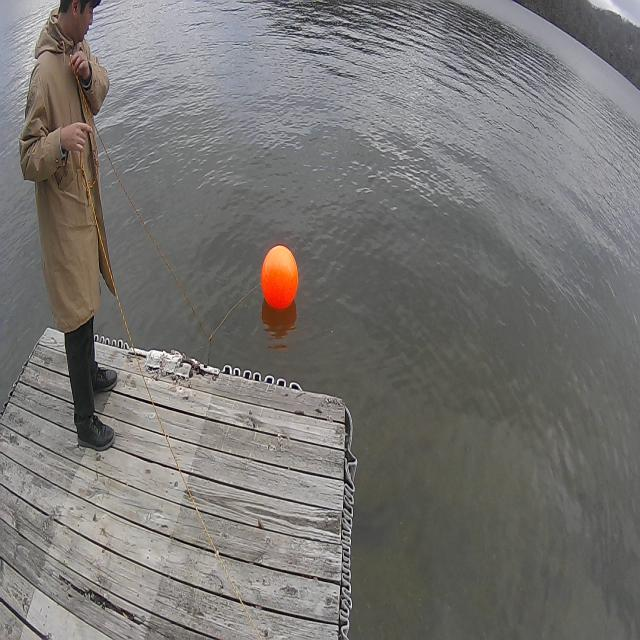Buoy: (258, 233, 300, 331)
